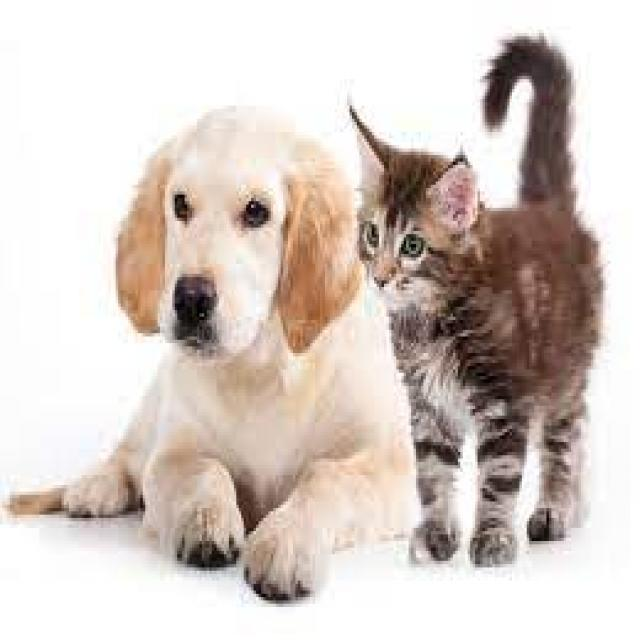cat: (337, 32, 611, 570)
dog: (12, 88, 420, 606)
